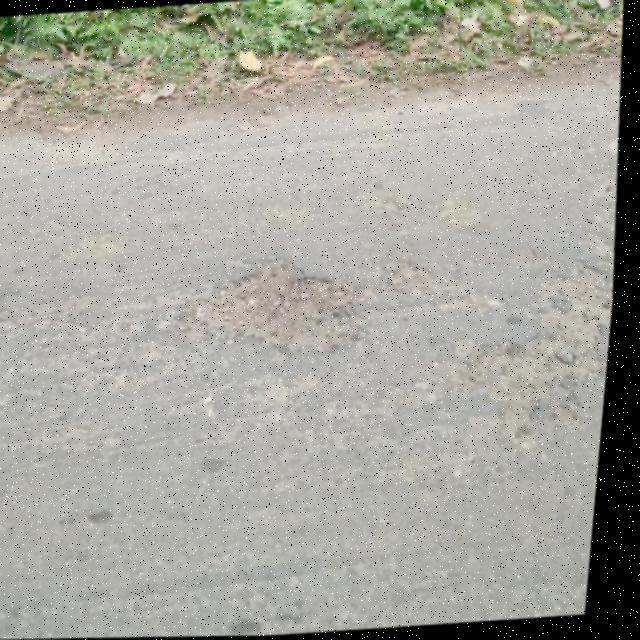pothole: (172, 250, 384, 378)
